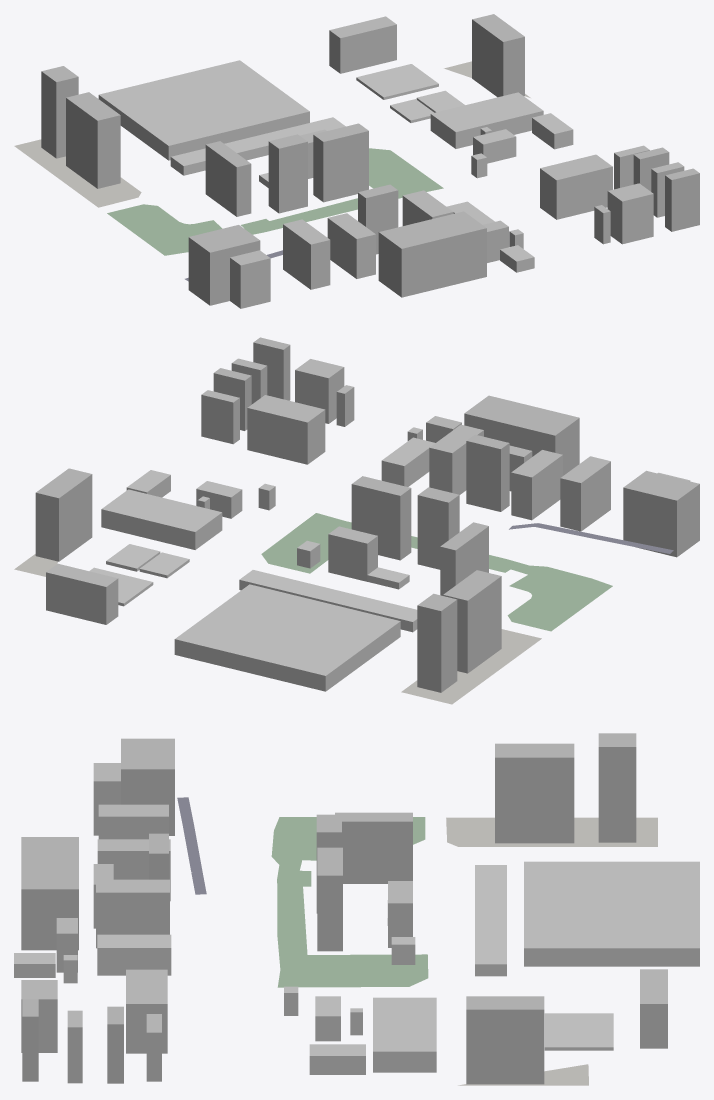
Rendered from 118_89_mid.glb.
3 renders of one model, top to bottom at view 1: azimuth 30°, elevation 25°; view 2: azimuth 150°, elevation 25°; view 3: azimuth 270°, elevation 25°, orthographic. The views are drawn at different scales.
Size of the model in its own units: 520 by 84.23 by 542.
